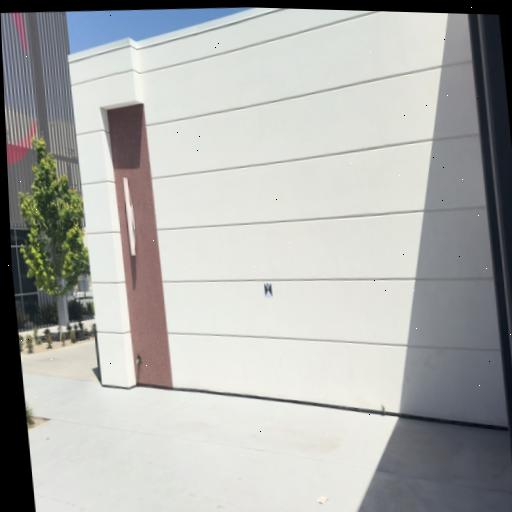target0: (264, 282, 272, 297)
